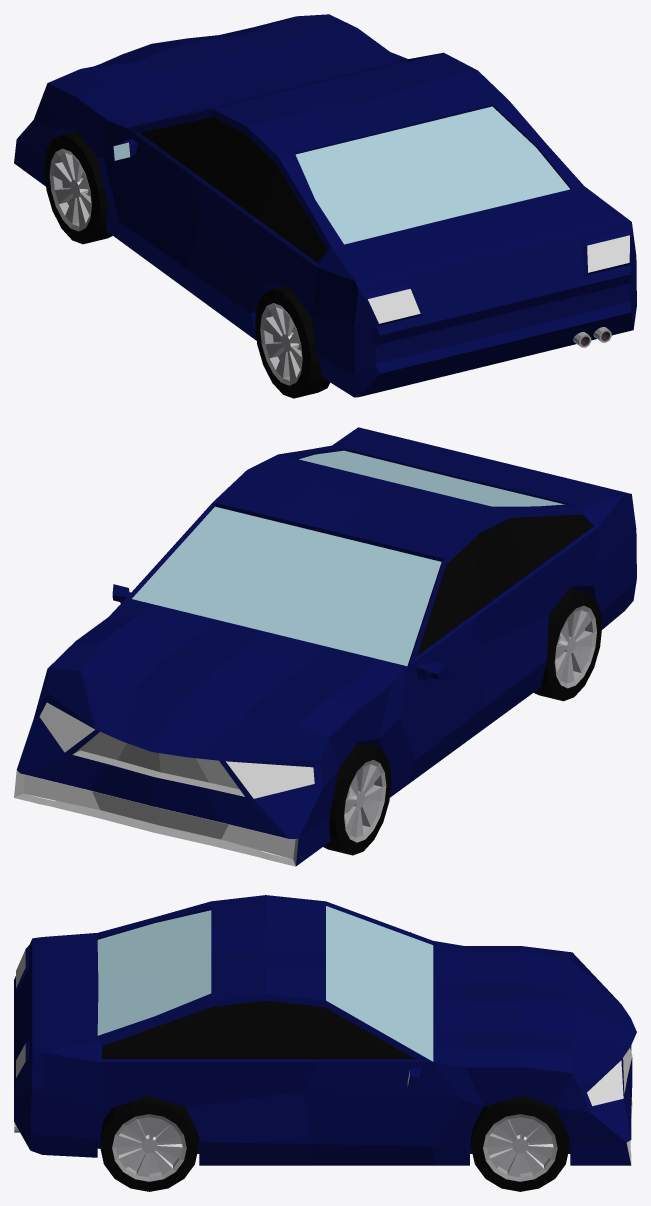
The model's file is Megamo.fbx.
3 renders of one model, top to bottom at view 1: azimuth 30°, elevation 25°; view 2: azimuth 150°, elevation 25°; view 3: azimuth 270°, elevation 25°, orthographic. The views are drawn at different scales.
Parts seen in each view (by area): view 1: Car, B_Tires_002, F_Tires_002; view 2: Car, F_Tires_002, B_Tires_002; view 3: Car, B_Tires_001, F_Tires_001.
Part boxes in pixels (x1,y1,x2,y2): Car: [14, 14, 636, 397]; B_Tires_002: [255, 285, 330, 398]; F_Tires_002: [44, 131, 112, 244]; Car: [14, 427, 636, 866]; F_Tires_002: [323, 742, 391, 855]; B_Tires_002: [534, 588, 602, 701]; Car: [14, 895, 636, 1165]; B_Tires_001: [100, 1096, 198, 1191]; F_Tires_001: [471, 1096, 569, 1191].
Bounding box in the file's own units: 240 × 146 × 441.
